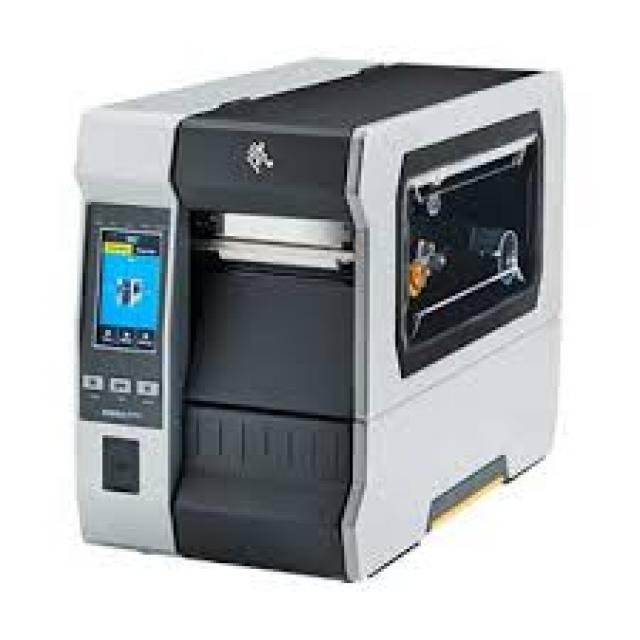printer: (74, 31, 587, 600)
